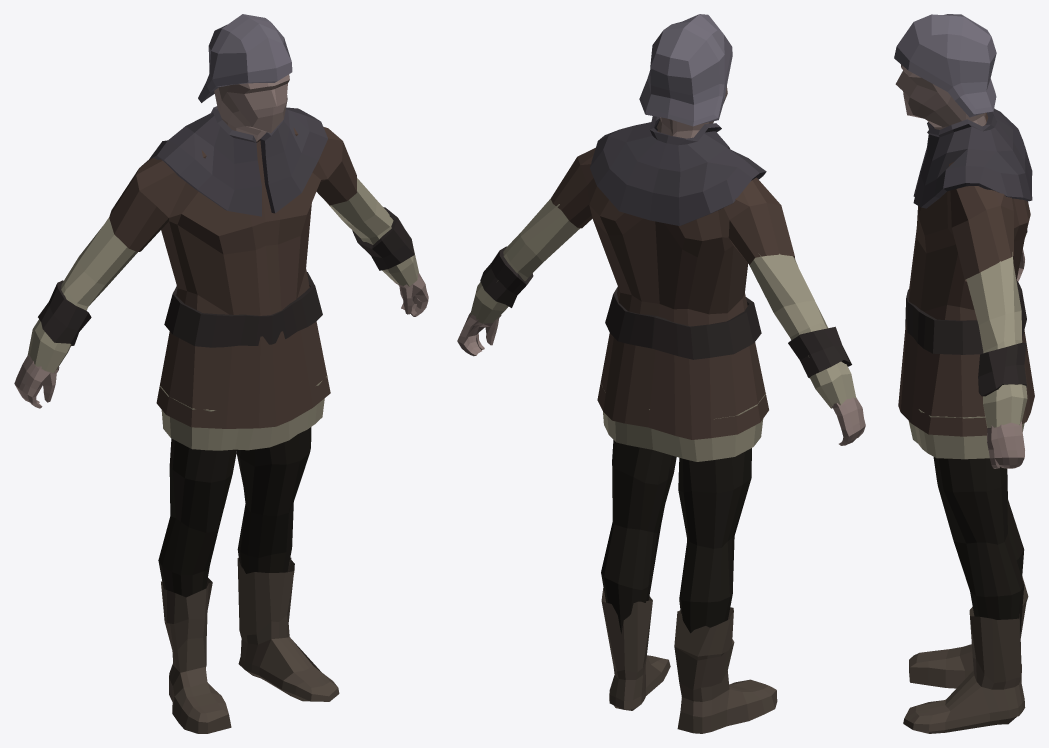
File: human-enemy1-lo.fbx
3 renders of one model, left to right at view 1: azimuth 30°, elevation 25°; view 2: azimuth 150°, elevation 25°; view 3: azimuth 270°, elevation 25°, orthographic.
Visible parts, largest first — view 1: EnemyHuman; view 2: EnemyHuman; view 3: EnemyHuman.
Boxes of the visible parts, bbox=[...] form: EnemyHuman: bbox=[14, 14, 428, 733]; EnemyHuman: bbox=[457, 14, 865, 733]; EnemyHuman: bbox=[894, 14, 1034, 733].
Size of the model in its own units: 1667 by 2708 by 504.
